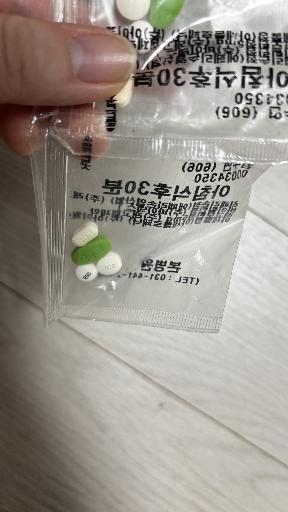Acecool: (96, 251, 122, 275)
BI-Tilin: (72, 236, 112, 265)
Lebamotin: (72, 221, 99, 247)
Leperisone: (75, 263, 98, 282)
vinyl: (40, 138, 266, 332)
